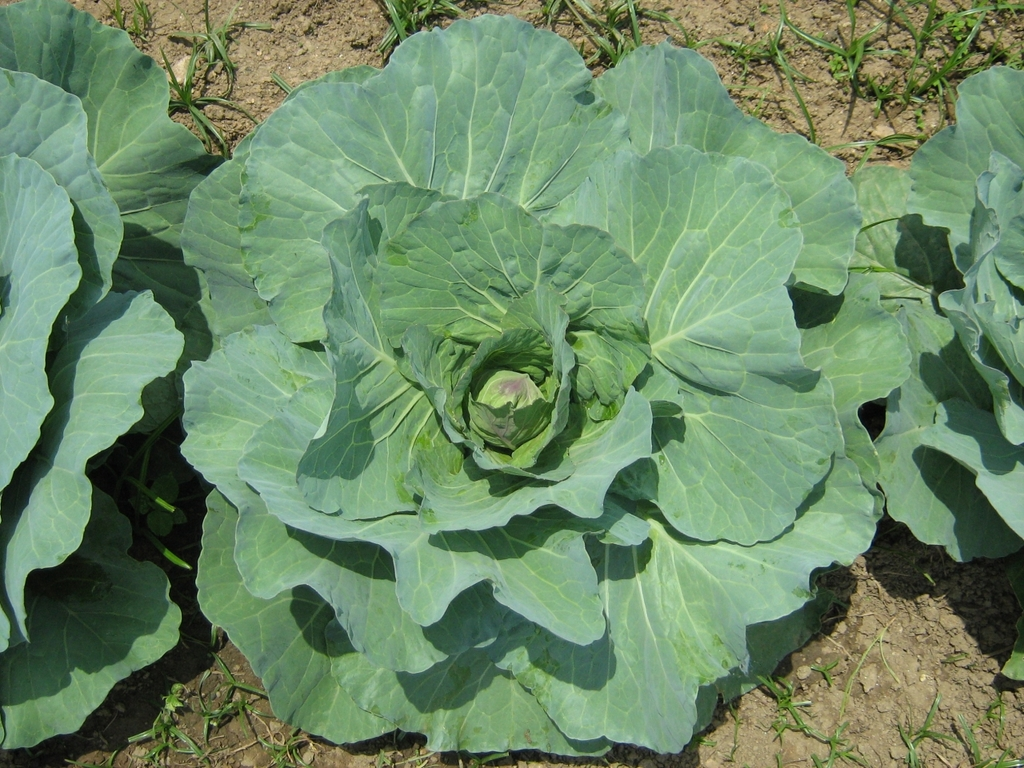Cabbage: (181, 13, 910, 758), (0, 0, 225, 751), (850, 63, 1024, 679)
